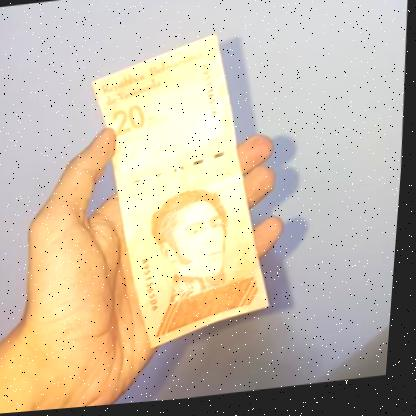twenty-front-vef: (75, 31, 290, 359)
